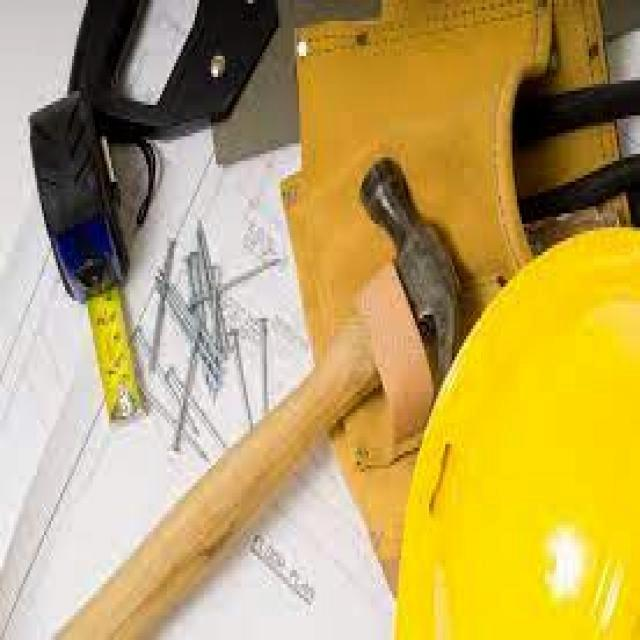hammer: (42, 154, 476, 640)
